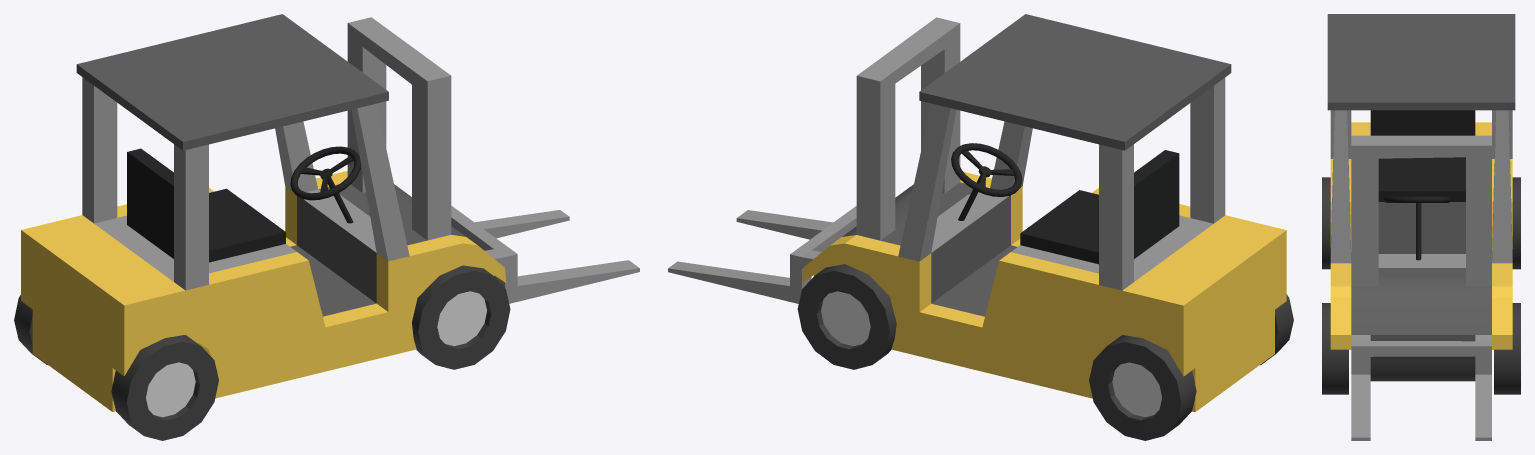
Rendered from Forklift.FBX.
3 views of the same model, side by side, from view 1: azimuth 30°, elevation 25°; view 2: azimuth 150°, elevation 25°; view 3: azimuth 270°, elevation 25° (orthographic). The views are drawn at different scales.
Parts seen in each view (by area): view 1: Forklift; view 2: Forklift; view 3: Forklift.
Boxes of the visible parts, x1,y1,x2,y2 form: Forklift: [14, 14, 639, 440]; Forklift: [668, 14, 1293, 440]; Forklift: [1322, 14, 1520, 440].
Bounding box in the file's own units: 59.06 × 30.99 × 21.75.
